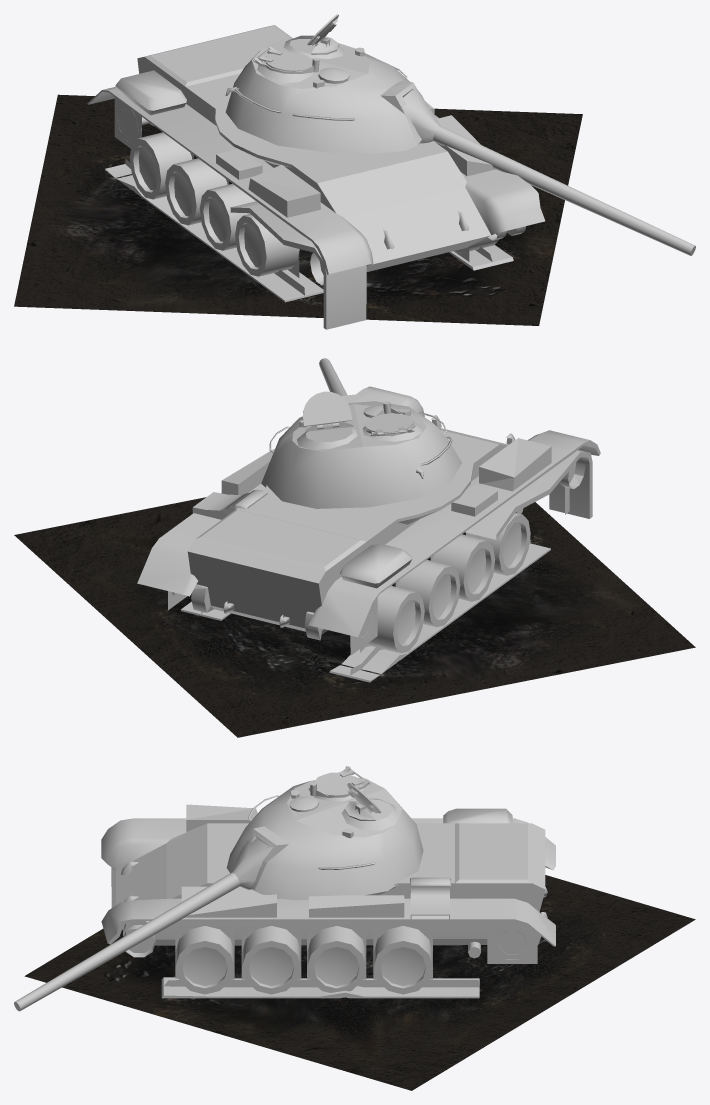
The model's file is T_54_Dead.FBX.
3 views of the same model, one above another, from view 1: azimuth 30°, elevation 25°; view 2: azimuth 150°, elevation 25°; view 3: azimuth 270°, elevation 25° (orthographic). The views are drawn at different scales.
Parts seen in each view (by area): view 1: T_54, Plane01; view 2: T_54, Plane01; view 3: T_54, Plane01.
Boxes of the visible parts, bbox=[...] form: T_54: bbox=[87, 14, 695, 329]; Plane01: bbox=[14, 94, 582, 325]; T_54: bbox=[137, 358, 600, 682]; Plane01: bbox=[14, 497, 695, 737]; T_54: bbox=[14, 766, 555, 1011]; Plane01: bbox=[24, 875, 695, 1090].
Size of the model in its own units: 9.07 by 2.67 by 9.14.
